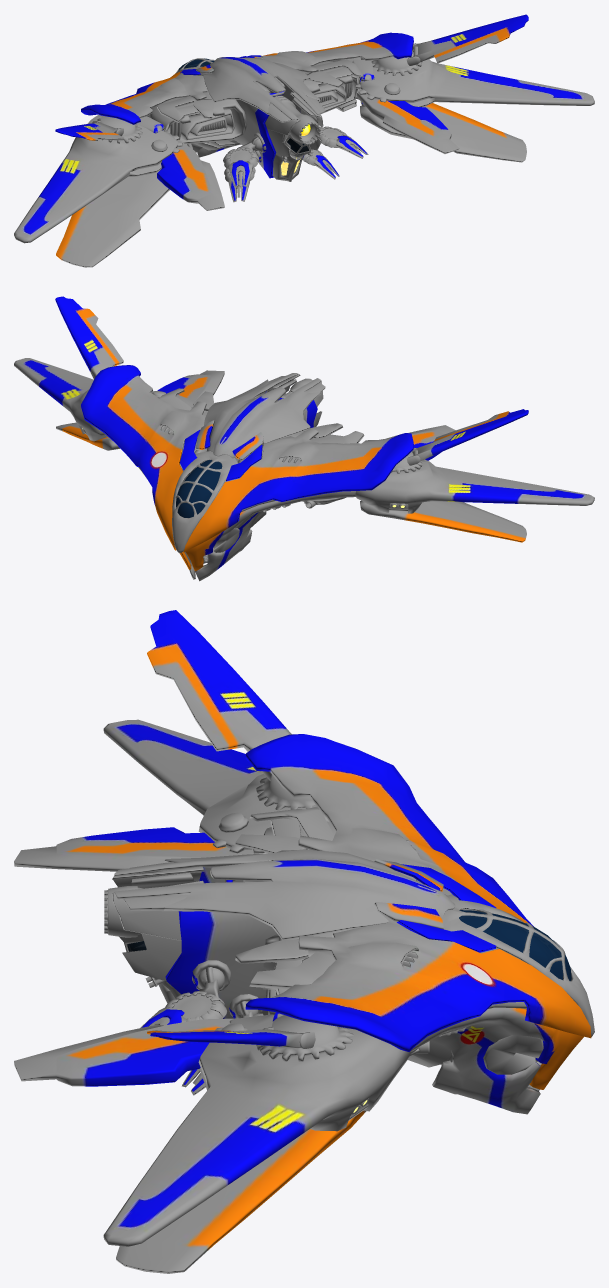
File: guardians-ship.glb
The picture shows the model from 3 angles, top to bottom: view 1: azimuth 30°, elevation 25°; view 2: azimuth 150°, elevation 25°; view 3: azimuth 270°, elevation 25°; orthographic projection. The views are drawn at different scales.
Visible parts, largest first — view 1: GotG Milano.Shape_airbrakeHinges_0, GotG Milano.Shape_shellBody_0, GotG Milano.Shape_sunroof_0, GotG Milano.Shape_rearEngines1_0; view 2: GotG Milano.Shape_airbrakeHinges_0, GotG Milano.Shape_shellBody_0, GotG Milano.Shape_sunroof_0, GotG Milano.Shape_cockpitGlass_0; view 3: GotG Milano.Shape_airbrakeHinges_0, GotG Milano.Shape_shellBody_0, GotG Milano.Shape_sunroof_0, GotG Milano.Shape_cockpitGlass_0.
Part boxes in pixels (x1,y1,x2,y2): GotG Milano.Shape_airbrakeHinges_0: [14, 14, 594, 267]; GotG Milano.Shape_shellBody_0: [81, 32, 413, 124]; GotG Milano.Shape_sunroof_0: [203, 57, 325, 122]; GotG Milano.Shape_rearEngines1_0: [149, 61, 359, 143]; GotG Milano.Shape_airbrakeHinges_0: [14, 296, 594, 581]; GotG Milano.Shape_shellBody_0: [81, 365, 413, 552]; GotG Milano.Shape_sunroof_0: [204, 373, 325, 458]; GotG Milano.Shape_cockpitGlass_0: [176, 460, 222, 517]; GotG Milano.Shape_airbrakeHinges_0: [14, 610, 594, 1273]; GotG Milano.Shape_shellBody_0: [245, 734, 591, 1051]; GotG Milano.Shape_sunroof_0: [114, 849, 455, 940]; GotG Milano.Shape_cockpitGlass_0: [459, 910, 571, 981].
Size of the model in its own units: 5800 by 1498 by 2730.
Materials: 14 (12 with a texture image).
